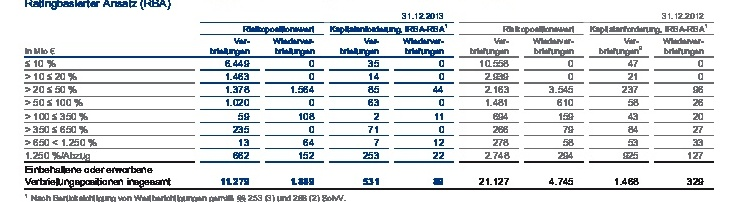table: (0, 0, 731, 202)
